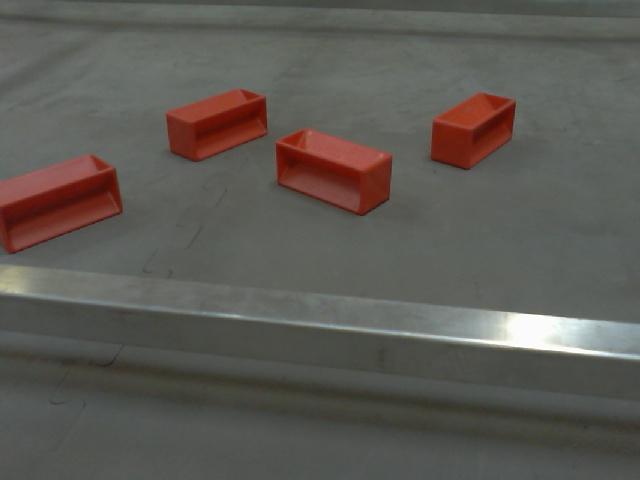RedSample: (1, 152, 125, 254), (269, 127, 394, 214), (166, 87, 272, 162), (427, 90, 518, 172)
